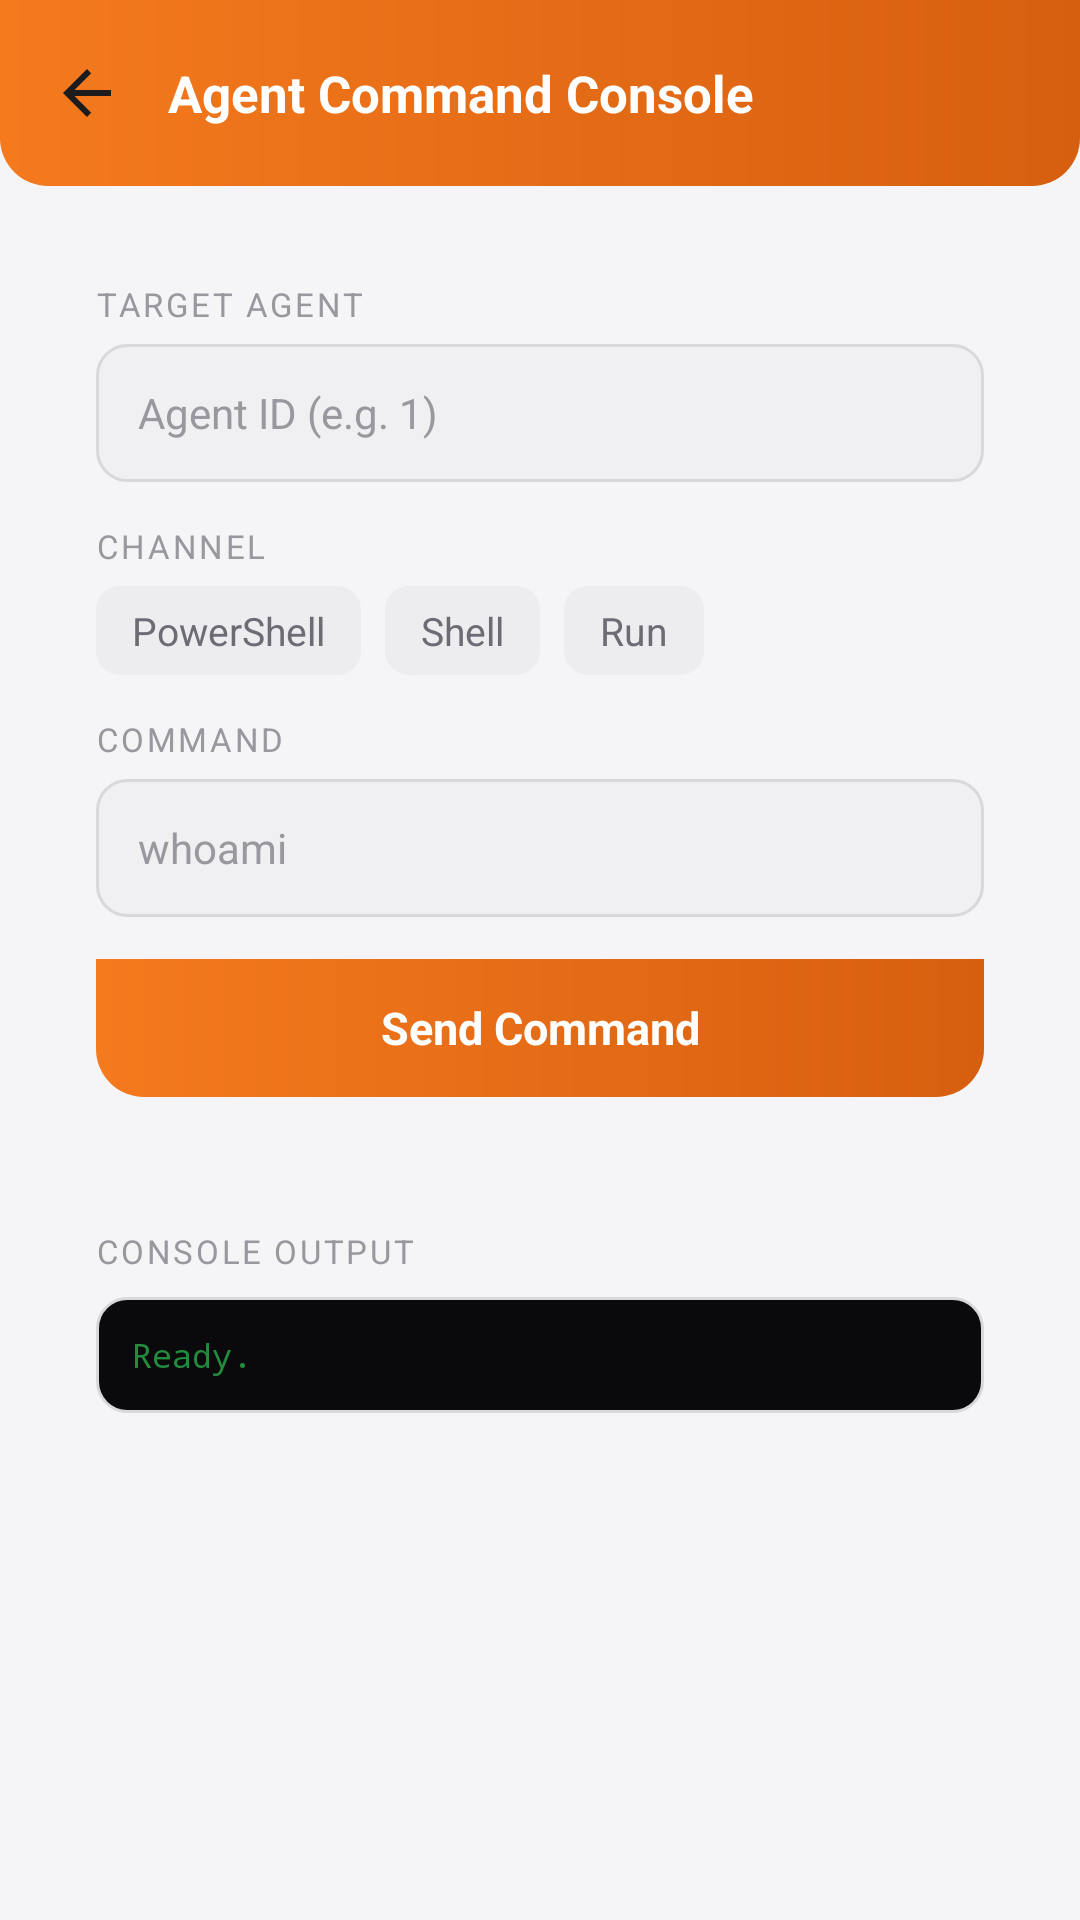

Where icons sit on this 1080*1920 app screen, as {"left": x1, "top": y1, "right": x2, "bottom": y2}:
Back: {"left": 63, "top": 69, "right": 111, "bottom": 117}
